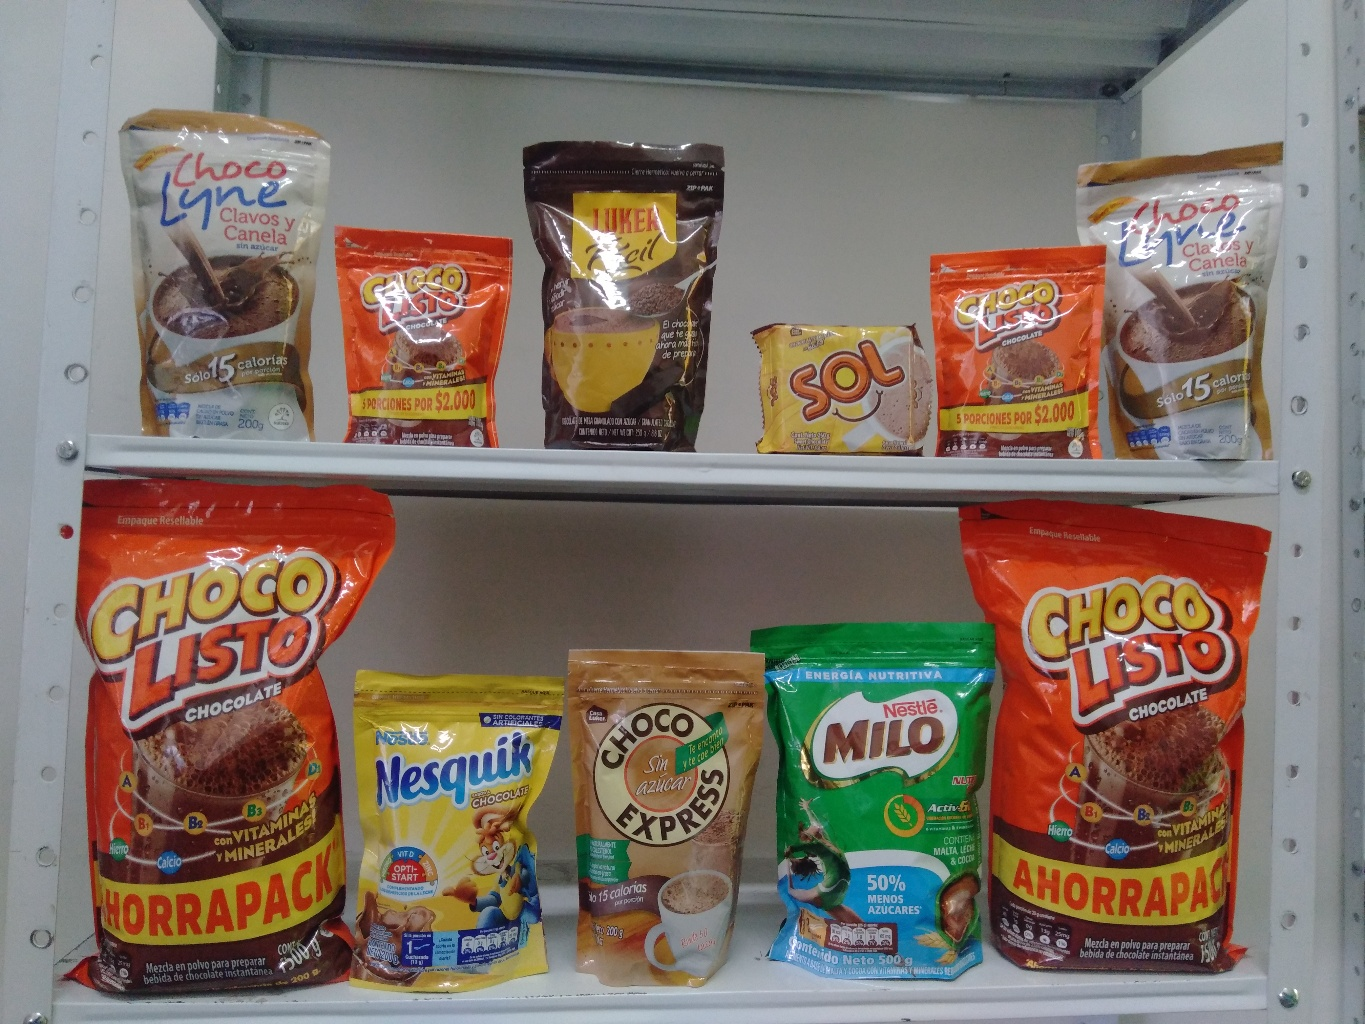COL0170103DYP1,500: (937, 512, 1257, 966)
COL0170205DYP50000: (752, 625, 1008, 985)
COL0170303DYP20000: (339, 643, 566, 1000)
